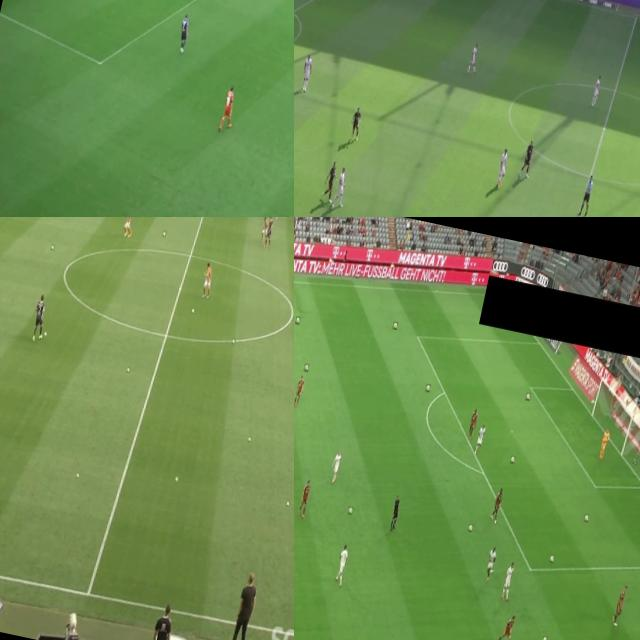ball: (467, 521, 475, 534), (304, 358, 311, 372), (522, 394, 530, 404), (508, 454, 516, 464), (347, 504, 354, 514), (294, 312, 300, 323), (584, 511, 590, 522), (393, 321, 400, 330), (161, 228, 167, 238), (424, 383, 430, 392), (548, 554, 554, 563), (174, 475, 180, 483), (247, 435, 252, 442), (190, 307, 195, 314), (50, 244, 54, 252), (76, 471, 80, 479), (286, 499, 290, 506), (543, 635, 548, 640), (126, 366, 130, 372), (232, 339, 234, 345), (44, 330, 46, 334)
player: (29, 290, 52, 342), (217, 82, 240, 130), (518, 133, 538, 175), (332, 162, 351, 206), (295, 51, 315, 92), (323, 158, 340, 206), (173, 14, 193, 54), (611, 583, 628, 630), (333, 544, 350, 590), (346, 99, 364, 140), (199, 260, 217, 300), (494, 147, 510, 188), (588, 69, 604, 110), (496, 611, 517, 640), (491, 484, 506, 523), (328, 448, 342, 489), (502, 562, 517, 600), (472, 422, 488, 457), (466, 42, 480, 74), (299, 481, 313, 512), (466, 408, 478, 444), (484, 546, 498, 576), (294, 371, 305, 409), (263, 217, 276, 248), (598, 430, 610, 460), (122, 217, 136, 237), (259, 217, 270, 238)
